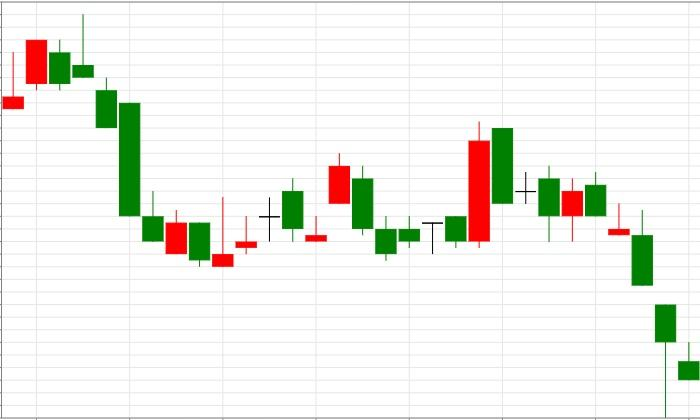hammer_rise: (491, 128, 677, 419)
inverse_hammer_rise: (49, 14, 234, 268)
